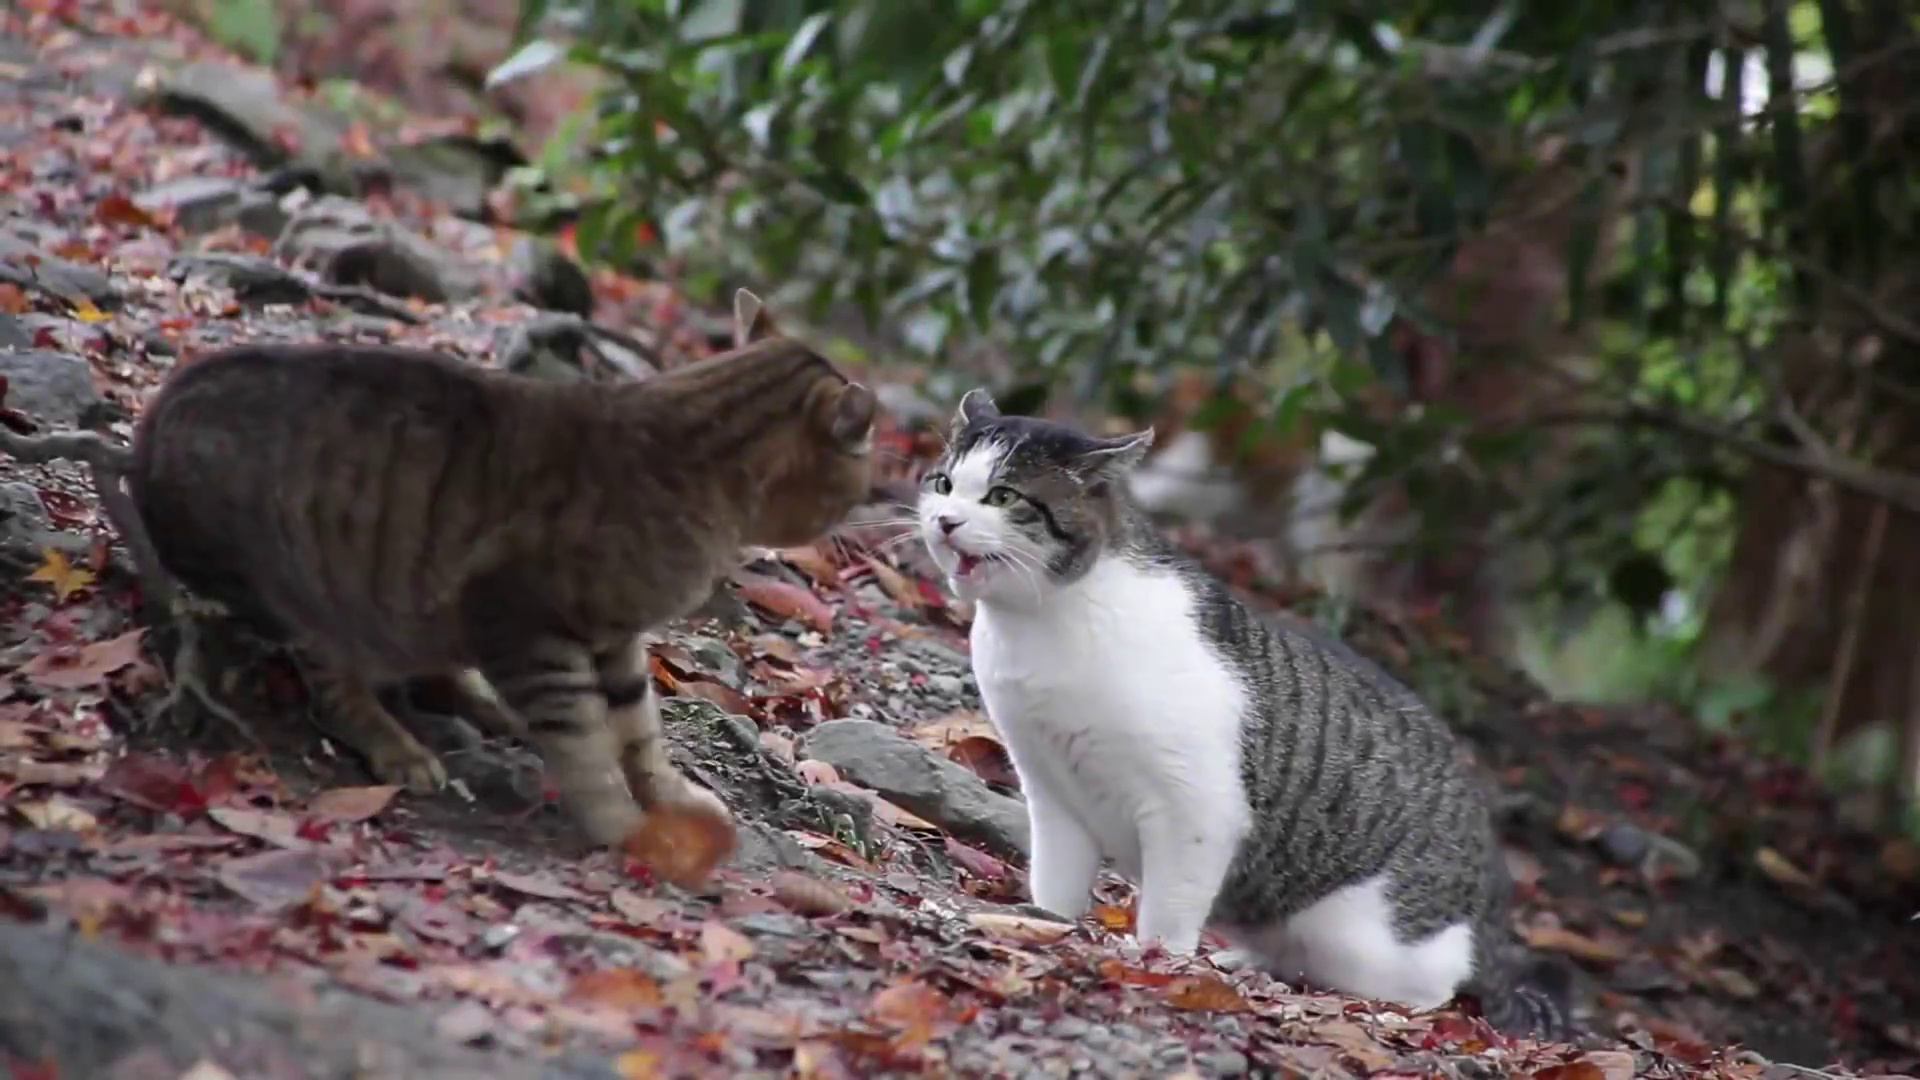black-white: (915, 386, 1499, 1011)
pure black: (132, 286, 877, 847)
